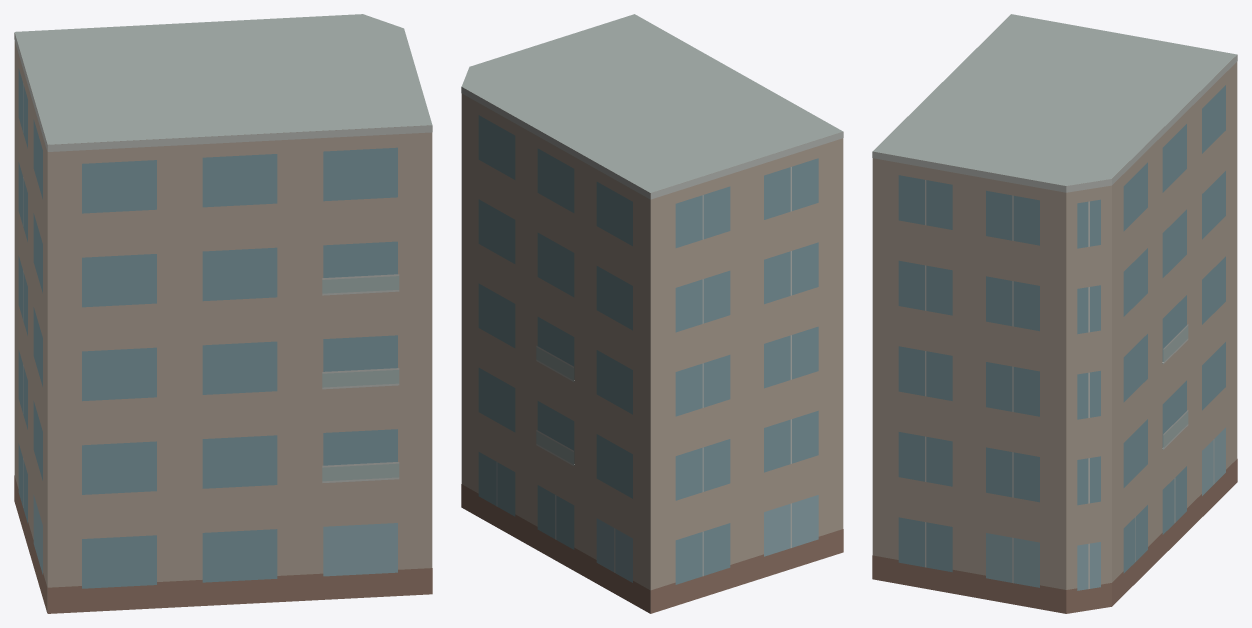
Rendered from survey-upis-32955968.glb.
3 renders of one model, left to right at view 1: azimuth 30°, elevation 25°; view 2: azimuth 150°, elevation 25°; view 3: azimuth 270°, elevation 25°, orthographic. The views are drawn at different scales.
Visible parts, largest first — view 1: survey-upis-32955968.tmp; view 2: survey-upis-32955968.tmp; view 3: survey-upis-32955968.tmp.
Boxes of the visible parts, x1,y1,x2,y2 form: survey-upis-32955968.tmp: [14, 14, 432, 613]; survey-upis-32955968.tmp: [461, 14, 843, 613]; survey-upis-32955968.tmp: [872, 14, 1237, 613].
Bounding box in the file's own units: 13.56 × 15.7 × 12.15.
